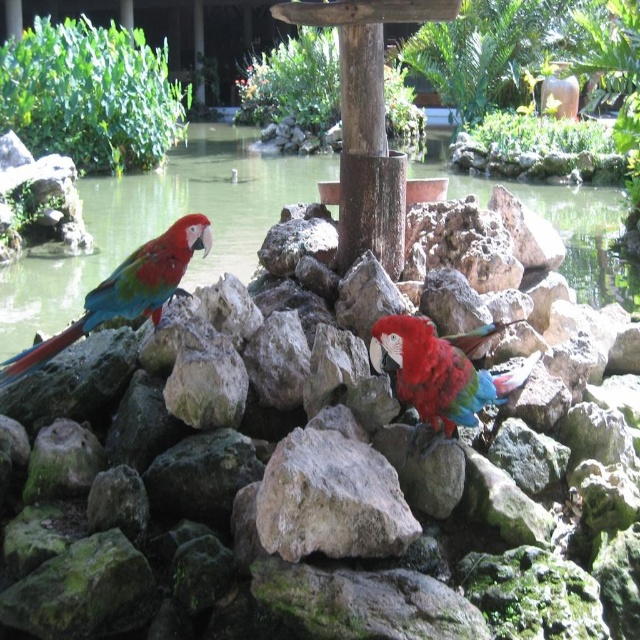Parrot: (0, 212, 213, 394), (370, 313, 540, 460)
